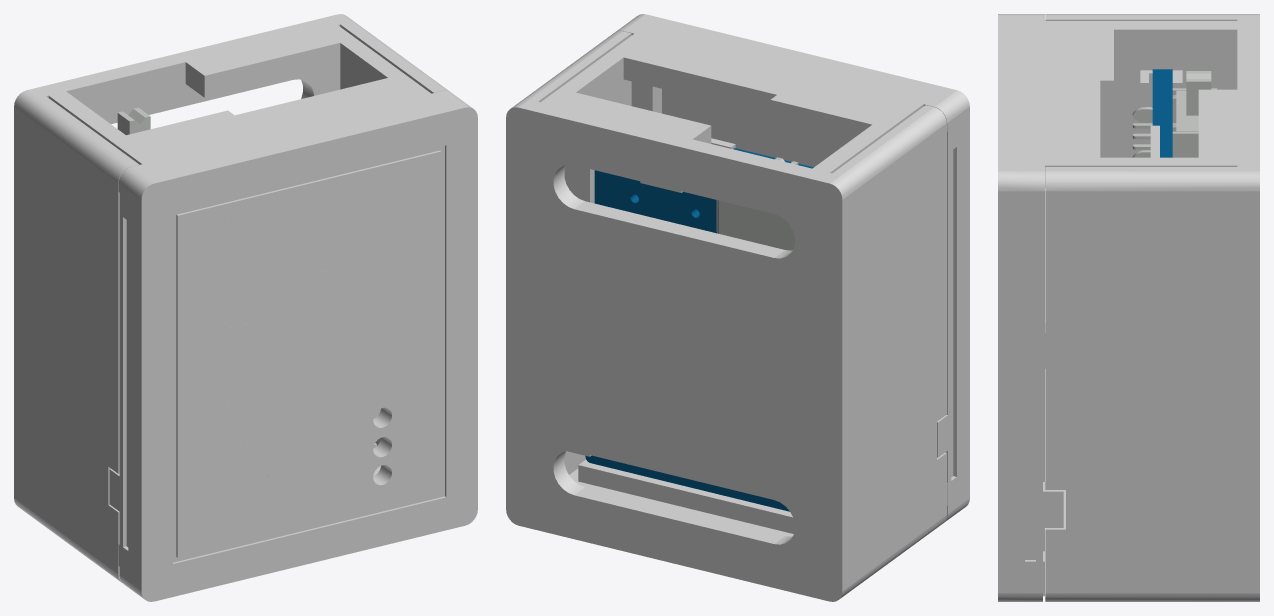
The model's file is siriusception-device-optimized.glb.
3 views of the same model, side by side, from view 1: azimuth 30°, elevation 25°; view 2: azimuth 150°, elevation 25°; view 3: azimuth 270°, elevation 25° (orthographic). The views are drawn at different scales.
Visible parts, largest first — view 1: o1.2, o1.1, o1.3, o1.4.21.1; view 2: o1.1, o1.2, o1.4.1, o1.4.21.1; view 3: o1.1, o1.2, o1.4.21.1, o1.4.1.
Part boxes in pixels (x1=…): o1.2: x1=48, y1=25, x2=477, y2=601; o1.1: x1=14, y1=14, x2=449, y2=582; o1.3: x1=186, y1=176, x2=356, y2=519; o1.4.21.1: x1=117, y1=107, x2=150, y2=135; o1.1: x1=506, y1=31, x2=946, y2=601; o1.2: x1=541, y1=14, x2=969, y2=522; o1.4.1: x1=585, y1=148, x2=813, y2=511; o1.4.21.1: x1=716, y1=157, x2=798, y2=250; o1.1: x1=1045, y1=14, x2=1259, y2=601; o1.2: x1=998, y1=14, x2=1237, y2=601; o1.4.21.1: x1=1132, y1=71, x2=1217, y2=157; o1.4.1: x1=1152, y1=69, x2=1172, y2=157.
Bounding box in the file's own units: 0.032 × 0.038 × 0.021.
1 material, 1 textured.
